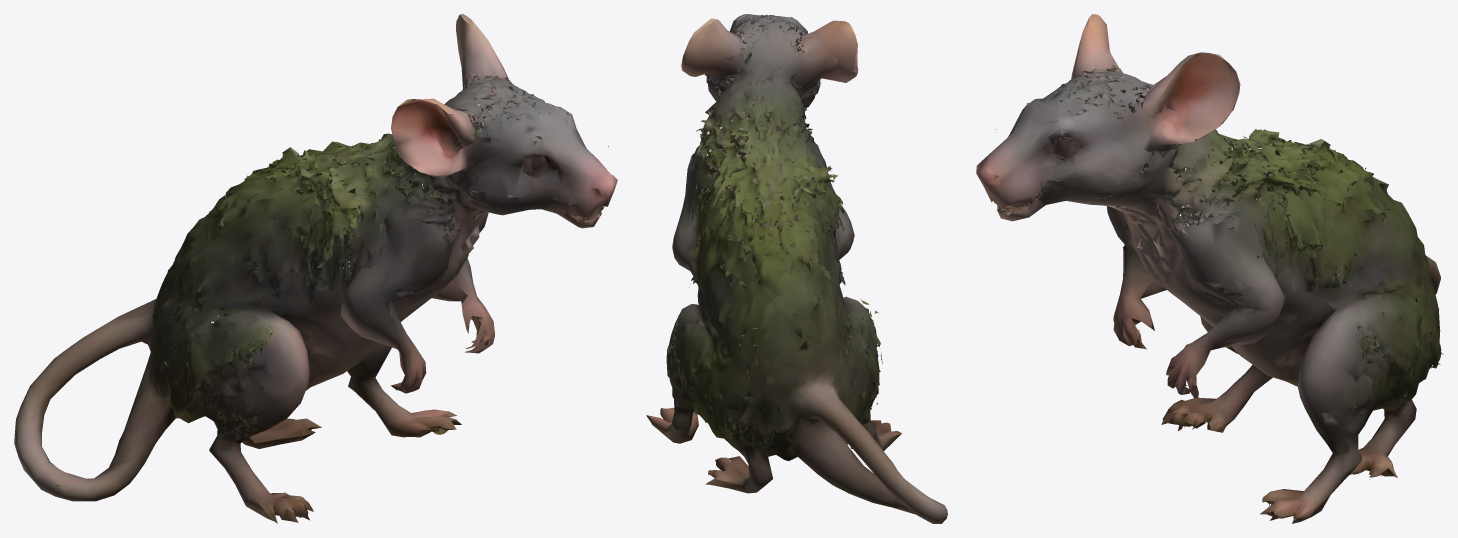
File: fig_blight_rat.glb
The picture shows the model from 3 angles, left to right: view 1: azimuth 30°, elevation 25°; view 2: azimuth 150°, elevation 25°; view 3: azimuth 270°, elevation 25°; orthographic projection. The views are drawn at different scales.
Parts seen in each view (by area): view 1: fig_blight_rat; view 2: fig_blight_rat; view 3: fig_blight_rat.
Boxes of the visible parts, <box> form: fig_blight_rat: <box>14,14,617,523</box>; fig_blight_rat: <box>646,14,947,523</box>; fig_blight_rat: <box>976,14,1443,523</box>.
Bounding box in the file's own units: 0.9673 × 0.9981 × 0.8906.
Materials: 1 (1 with a texture image).
